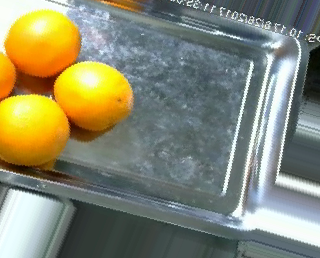Orange: (50, 59, 133, 131), (4, 10, 81, 78), (1, 92, 71, 165)
